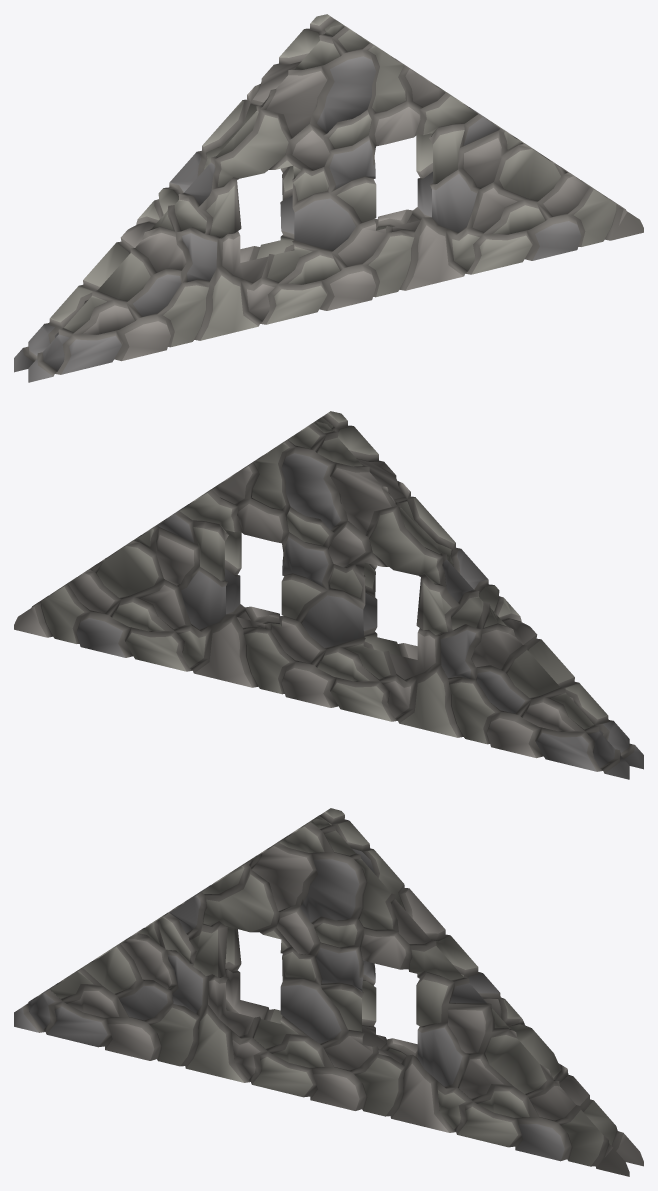
Rendered from rpgpp_ag_roof_end_01_9x4_wall_window_03d.fbx.
The picture shows the model from 3 angles, top to bottom: view 1: azimuth 30°, elevation 25°; view 2: azimuth 150°, elevation 25°; view 3: azimuth 330°, elevation 25°; orthographic projection.
Parts seen in each view (by area): view 1: rpgpp_ag_roof_end_01_9x4_wall_window_03d; view 2: rpgpp_ag_roof_end_01_9x4_wall_window_03d; view 3: rpgpp_ag_roof_end_01_9x4_wall_window_03d.
Boxes of the visible parts, x1,y1,x2,y2 form: rpgpp_ag_roof_end_01_9x4_wall_window_03d: (14, 14, 643, 382); rpgpp_ag_roof_end_01_9x4_wall_window_03d: (14, 411, 643, 779); rpgpp_ag_roof_end_01_9x4_wall_window_03d: (14, 808, 643, 1176).
Bounding box in the file's own units: 9 × 3.94 × 0.4229.
